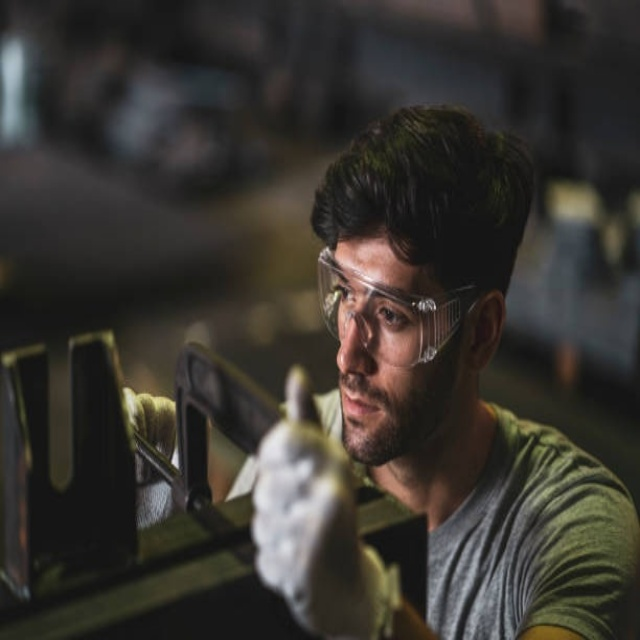Gafas: (316, 249, 478, 366)
Guantes: (247, 367, 393, 640), (122, 386, 177, 466)
Sin_mascara: (340, 375, 401, 447)
